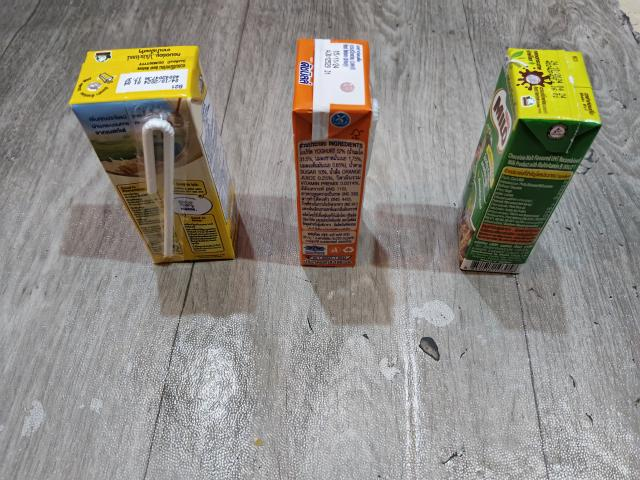drink_box: (60, 38, 250, 270), (452, 40, 609, 278), (290, 35, 383, 273)
